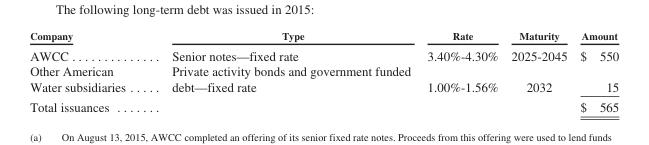table: (29, 29, 618, 114)
table column: (148, 29, 418, 114), (29, 29, 148, 114), (418, 29, 504, 114), (504, 29, 573, 114), (573, 29, 618, 114)
table column header: (29, 29, 618, 44)
table row: (29, 62, 618, 96), (29, 44, 618, 62), (29, 96, 618, 114), (29, 29, 618, 44)
